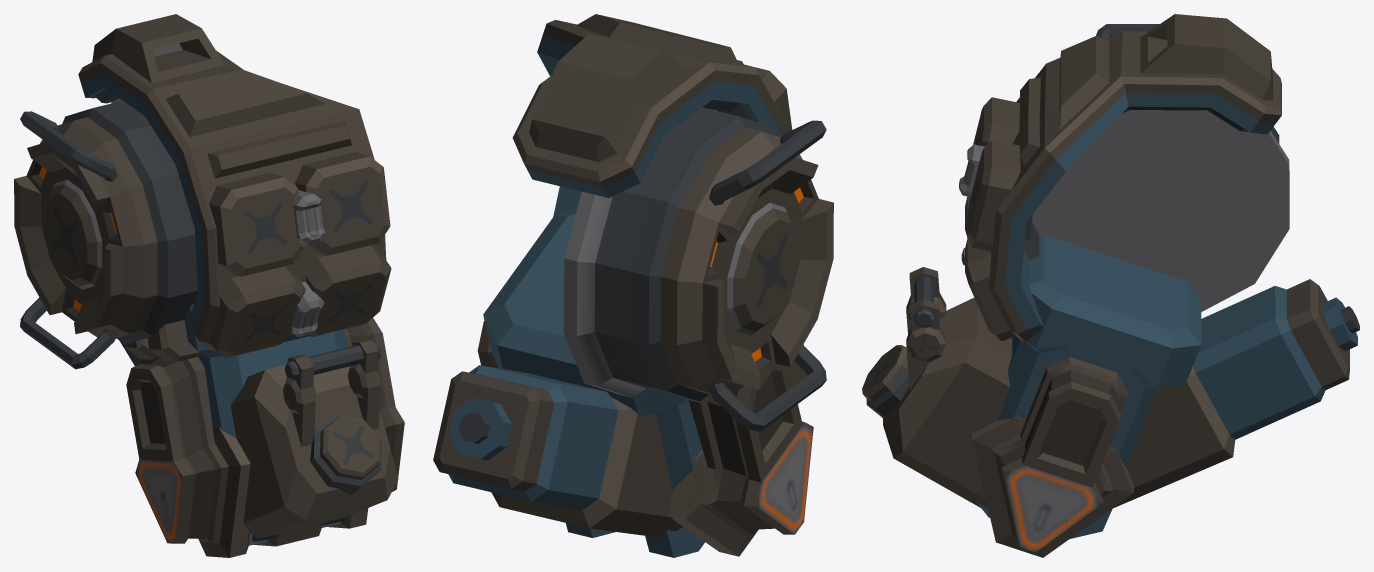
Rendered from SM_Mech_Leg_01_Armor_Thigh_05.fbx.
3 views of the same model, side by side, from view 1: azimuth 30°, elevation 25°; view 2: azimuth 150°, elevation 25°; view 3: azimuth 270°, elevation 25° (orthographic). The views are drawn at different scales.
Visible parts, largest first — view 1: SM_Mech_Leg_01_Armor_Thigh_05; view 2: SM_Mech_Leg_01_Armor_Thigh_05; view 3: SM_Mech_Leg_01_Armor_Thigh_05.
Boxes of the visible parts, x1,y1,x2,y2 form: SM_Mech_Leg_01_Armor_Thigh_05: (14,14,404,557); SM_Mech_Leg_01_Armor_Thigh_05: (433,14,833,557); SM_Mech_Leg_01_Armor_Thigh_05: (862,14,1359,557).
Size of the model in its own units: 80.33 by 126 by 120.
